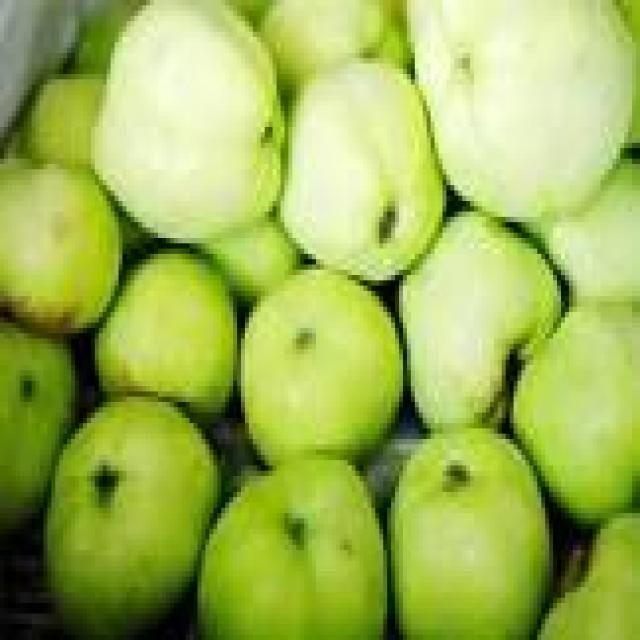apple: (407, 0, 636, 222), (95, 0, 284, 243), (44, 397, 221, 639), (281, 59, 442, 280), (198, 455, 387, 639), (400, 212, 560, 428), (392, 429, 553, 639), (241, 265, 402, 465), (514, 302, 639, 523), (95, 249, 237, 417), (0, 164, 122, 333), (0, 318, 75, 539), (542, 159, 639, 301), (261, 0, 406, 89), (538, 514, 639, 639), (202, 217, 300, 306), (24, 75, 102, 169), (72, 0, 146, 74), (617, 0, 639, 148), (230, 0, 272, 26)
